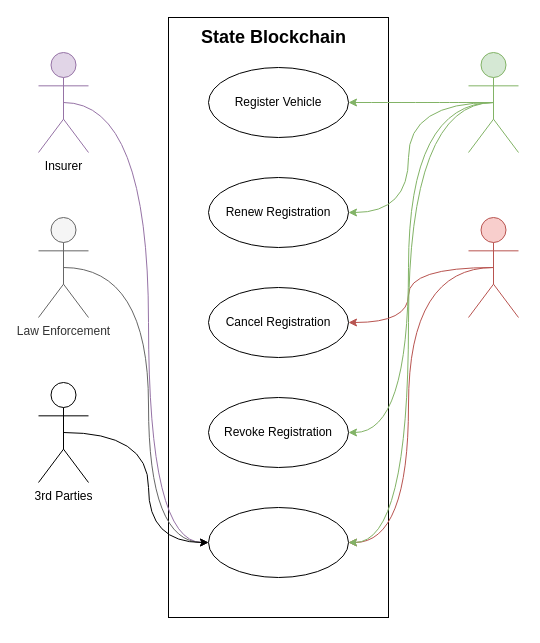
Image size: 540x643. Some labels were removed from this diagram. Each missing label, with the box of its shape:
Owner: (468, 216, 518, 318)
State DMV: (468, 52, 518, 152)
View Registration: (208, 506, 348, 578)
